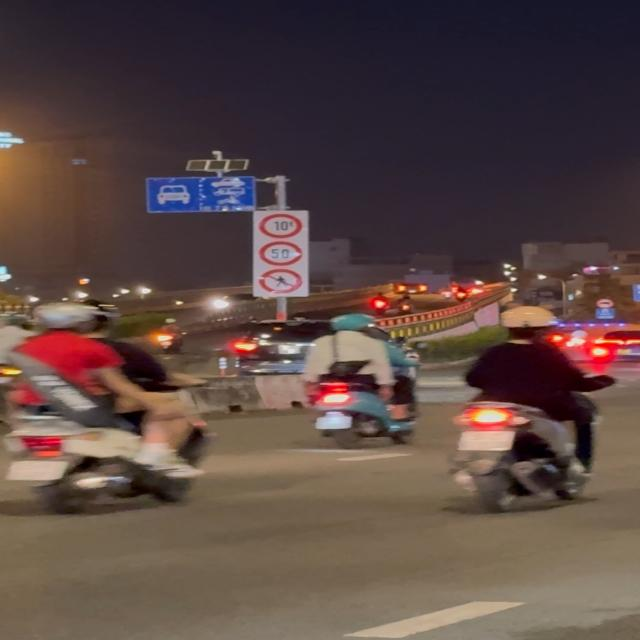Bien bao cam nguoi di bo: (259, 268, 304, 294)
Bien bao toc do toi da cho phep: (255, 240, 305, 266)
